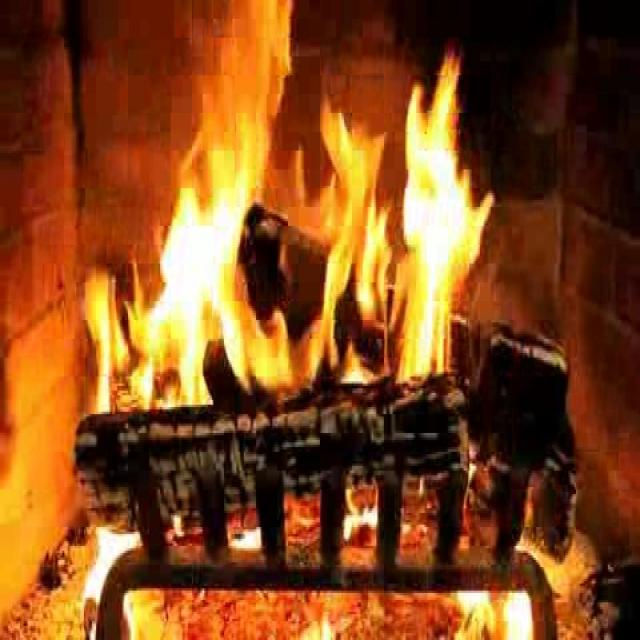fire: (120, 16, 494, 448)
